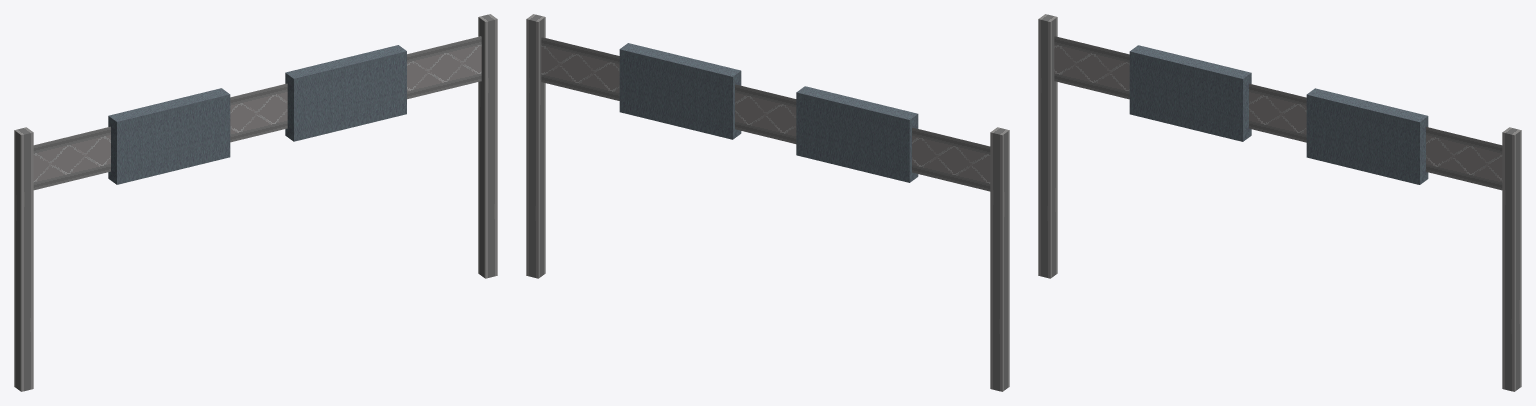
The model's file is BGN_HIGHWAY SIGNS.fbx.
The picture shows the model from 3 angles, left to right: view 1: azimuth 30°, elevation 25°; view 2: azimuth 150°, elevation 25°; view 3: azimuth 330°, elevation 25°; orthographic projection.
Visible parts, largest first — view 1: BGN_HIGHWAY_SIGNS; view 2: BGN_HIGHWAY_SIGNS; view 3: BGN_HIGHWAY_SIGNS.
Boxes of the visible parts, left/top/right/bottom form: BGN_HIGHWAY_SIGNS: left=14, top=14, right=497, bottom=391; BGN_HIGHWAY_SIGNS: left=526, top=14, right=1009, bottom=391; BGN_HIGHWAY_SIGNS: left=1038, top=14, right=1521, bottom=391.
Bounding box in the file's own units: 1161 × 598 × 38.64.
